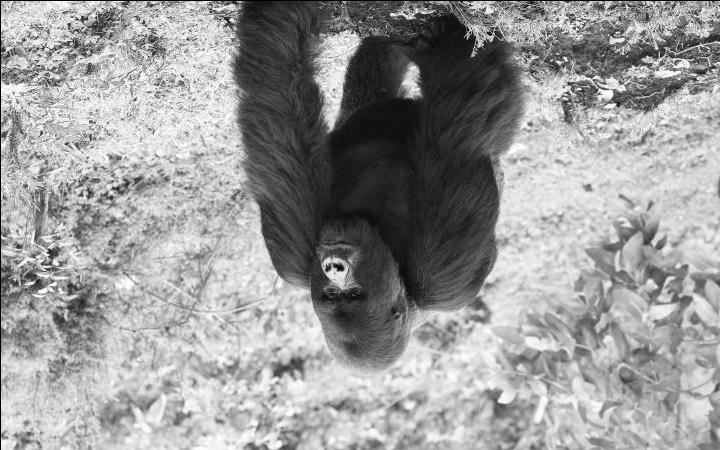goriile_montagne: (201, 0, 520, 373)
